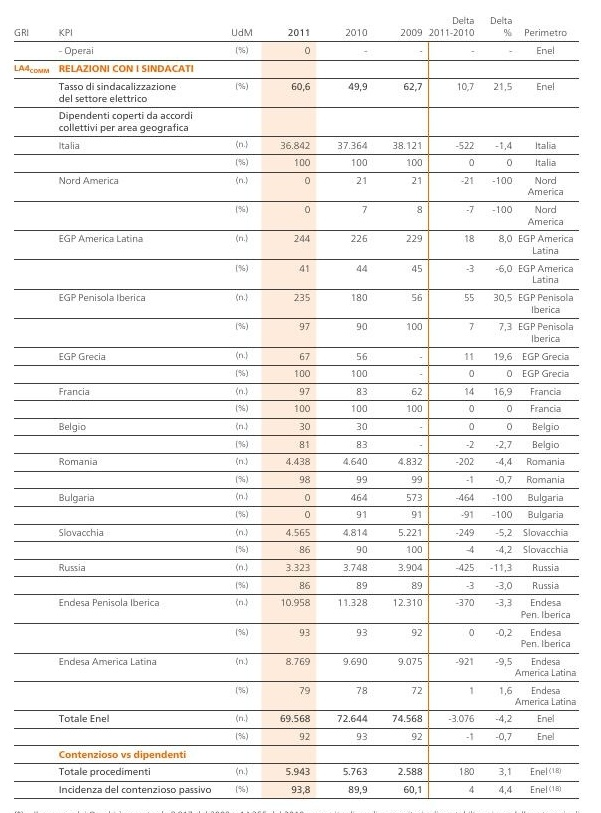table: (0, 0, 601, 813)
